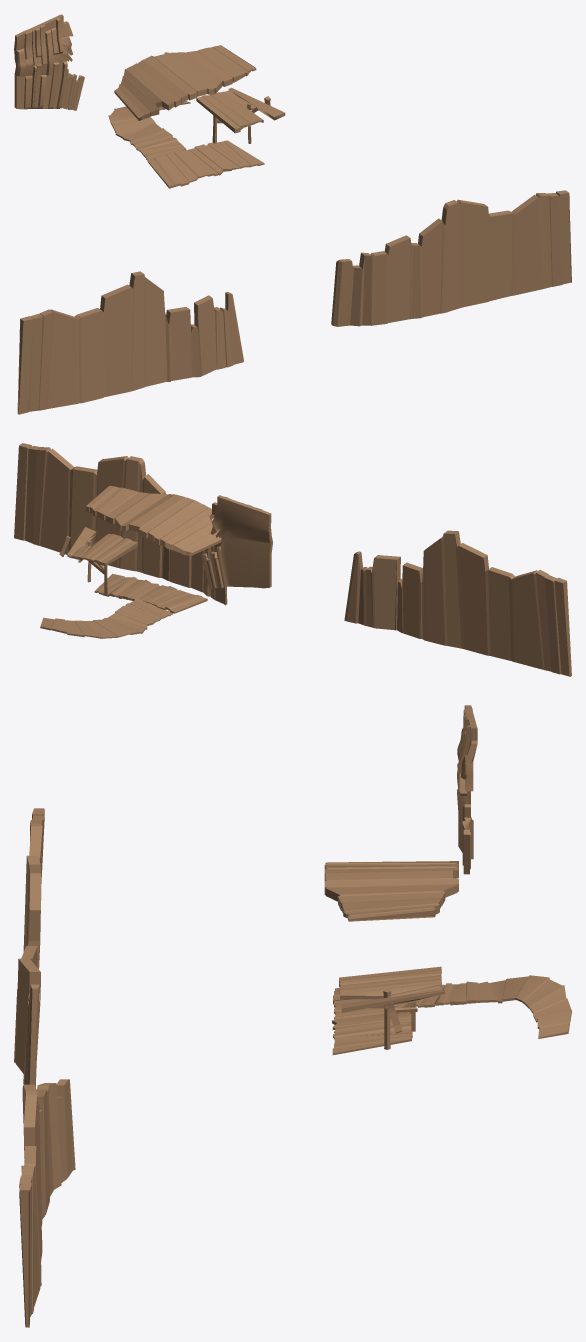
File: Woodplanking.fbx
The picture shows the model from 3 angles, top to bottom: view 1: azimuth 30°, elevation 25°; view 2: azimuth 150°, elevation 25°; view 3: azimuth 270°, elevation 25°; orthographic projection. The views are drawn at different scales.
Parts seen in each view (by area): view 1: TopCenterPlankWalkway1, TopCenterPlankWalkway2, TopCenterPlankWalkway, LeftBuildingBackwall, BottomCenterPlankWalkway, BottomBackPlankWalkway, RightUpperPlankWalkway; view 2: TopCenterPlankWalkway2, TopCenterPlankWalkway1, TopCenterPlankWalkway, LeftBuildingBackwall, BottomBackPlankWalkway, BottomCenterPlankWalkway, RightUpperPlankWalkway, SupportRightUpperPlankWalkway; view 3: TopCenterPlankWalkway1, TopCenterPlankWalkway, TopCenterPlankWalkway2, BottomBackPlankWalkway, RightUpperPlankWalkway, BottomCenterPlankWalkway, LeftBuildingBackwall, SupportRightUpperPlankWalkway.
Boxes of the visible parts, x1,y1,x2,y2 form: TopCenterPlankWalkway1: (331, 190, 571, 326); TopCenterPlankWalkway2: (17, 271, 243, 414); TopCenterPlankWalkway: (114, 45, 256, 120); LeftBuildingBackwall: (14, 14, 84, 110); BottomCenterPlankWalkway: (147, 140, 264, 188); BottomBackPlankWalkway: (108, 101, 190, 160); RightUpperPlankWalkway: (196, 87, 285, 133); TopCenterPlankWalkway2: (344, 530, 571, 676); TopCenterPlankWalkway1: (14, 443, 227, 605); TopCenterPlankWalkway: (86, 485, 221, 555); LeftBuildingBackwall: (201, 495, 272, 589); BottomBackPlankWalkway: (40, 599, 173, 638); BottomCenterPlankWalkway: (94, 573, 207, 613); RightUpperPlankWalkway: (67, 527, 137, 566); SupportRightUpperPlankWalkway: (59, 536, 107, 595); TopCenterPlankWalkway1: (19, 1079, 75, 1327); TopCenterPlankWalkway: (324, 861, 458, 921); TopCenterPlankWalkway2: (14, 808, 44, 1086); BottomBackPlankWalkway: (410, 975, 571, 1038); RightUpperPlankWalkway: (339, 966, 444, 1012); BottomCenterPlankWalkway: (332, 988, 412, 1055); LeftBuildingBackwall: (457, 705, 477, 874); SupportRightUpperPlankWalkway: (380, 989, 417, 1049).
Size of the model in its own units: 22.82 by 9.53 by 13.83.
